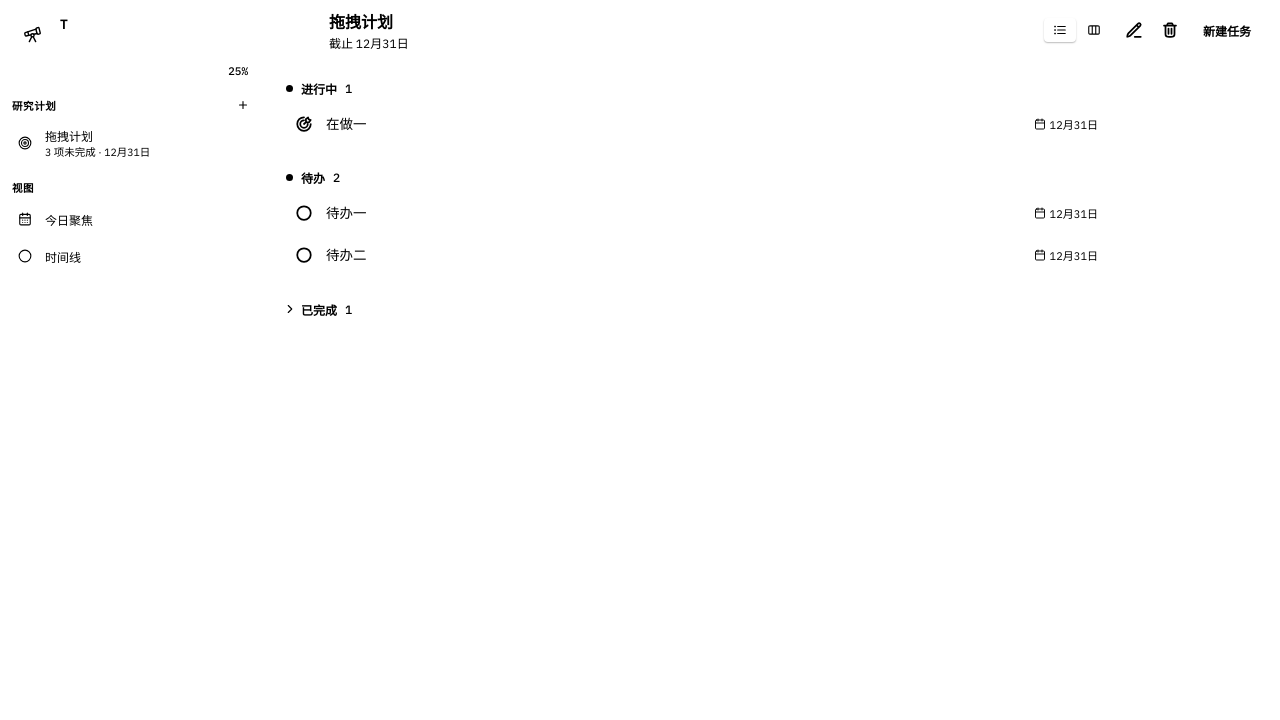
it: list-mode drag rejection (Stage 4 smoke bug) › cross-group drag (todo row onto the doing group) snaps back: 0 PUT, order unchanged
Press the mouse on the button "待办一 12月31日": (346,213) [293, 202, 1098, 224]
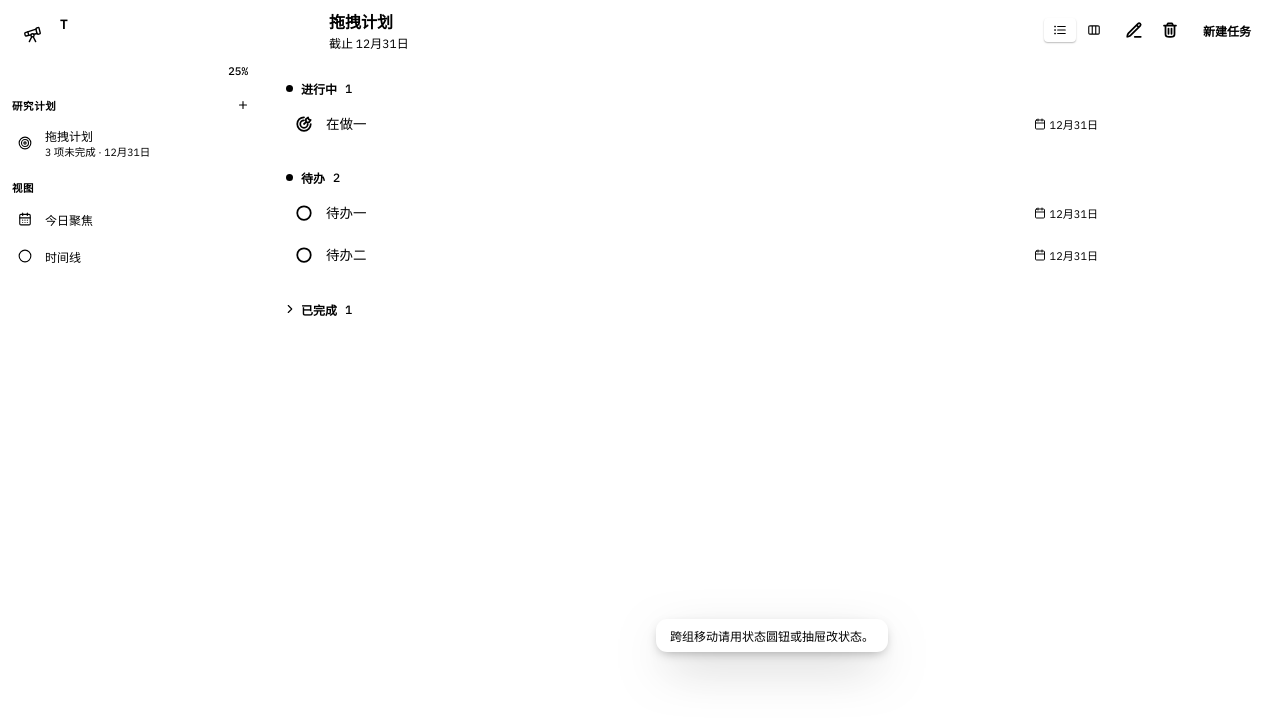
Expected: the text "跨组移动请用状态圆钮或抽屉改状态" is shown, [670, 629, 874, 644]
